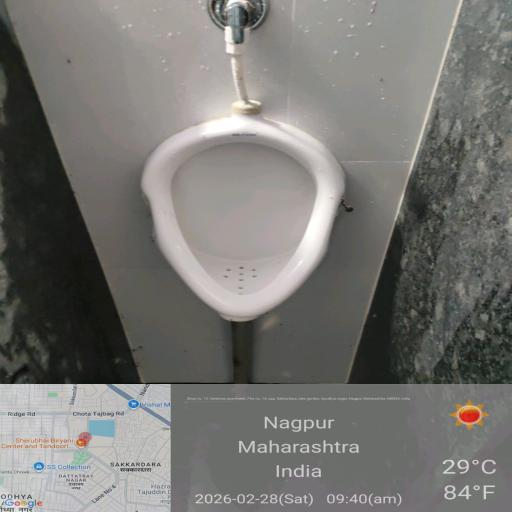clean_urinal: (119, 95, 371, 338)
